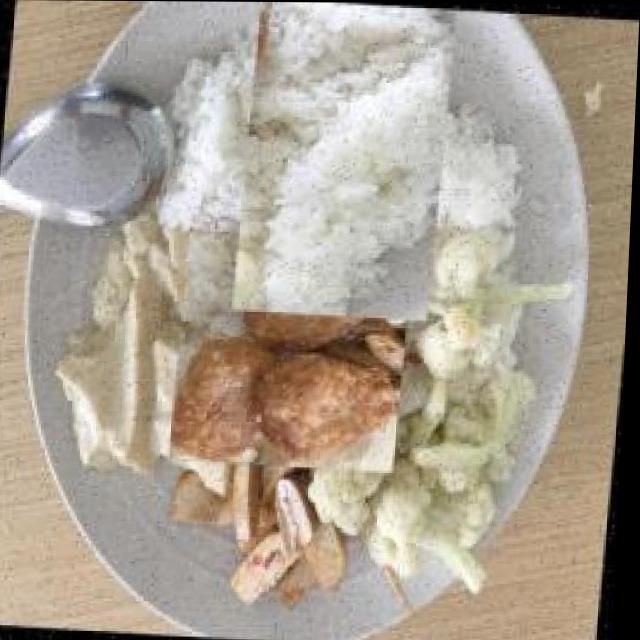rice: (205, 11, 490, 291)
triangle_hash_brown: (172, 233, 420, 472)
